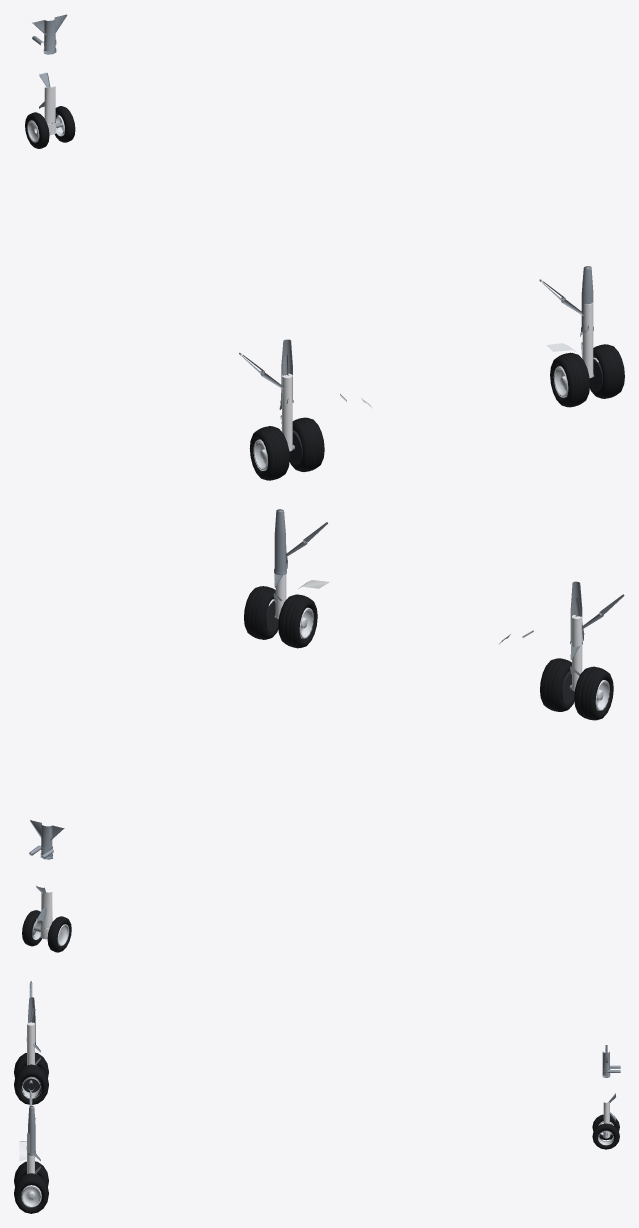
File: b737-landing-gear.glb
The picture shows the model from 3 angles, top to bottom: view 1: azimuth 30°, elevation 25°; view 2: azimuth 150°, elevation 25°; view 3: azimuth 270°, elevation 25°; orthographic projection. The views are drawn at different scales.
Parts seen in each view (by area): view 1: MainWheelGroupL, MainWheelGroupR, NoseWheelGroup, MainPistonL, MainStrutUpperR, MainPistonR, NoseStrutUpper, MainStrutUpperL; view 2: MainWheelGroupR, MainWheelGroupL, NoseWheelGroup, MainStrutUpperR, MainStrutUpperL, NoseStrutUpper, MainPistonL; view 3: MainWheelGroupR, MainWheelGroupL, NoseWheelGroup, MainStrutUpperR, MainPistonL.
Boxes of the visible parts, box(x1,y1,x2,y2) form: MainWheelGroupL: box(249, 417, 324, 480); MainWheelGroupR: box(550, 344, 624, 407); NoseWheelGroup: box(25, 106, 75, 148); MainPistonL: box(282, 373, 292, 451); MainStrutUpperR: box(539, 266, 593, 332); MainPistonR: box(582, 302, 593, 377); NoseStrutUpper: box(32, 14, 67, 54); MainStrutUpperL: box(239, 339, 293, 403); MainWheelGroupR: box(244, 586, 317, 648); MainWheelGroupL: box(540, 658, 613, 720); NoseWheelGroup: box(22, 910, 71, 952); MainStrutUpperR: box(274, 509, 327, 575); MainStrutUpperL: box(570, 581, 624, 644); NoseStrutUpper: box(29, 820, 64, 859); MainPistonL: box(572, 615, 582, 691); MainWheelGroupR: box(14, 1161, 48, 1213); MainWheelGroupL: box(14, 1052, 48, 1104); NoseWheelGroup: box(592, 1114, 619, 1149); MainStrutUpperR: box(26, 1090, 35, 1155); MainPistonL: box(27, 1022, 34, 1065).
Size of the model in its own units: 8.02 by 2.75 by 15.19.
